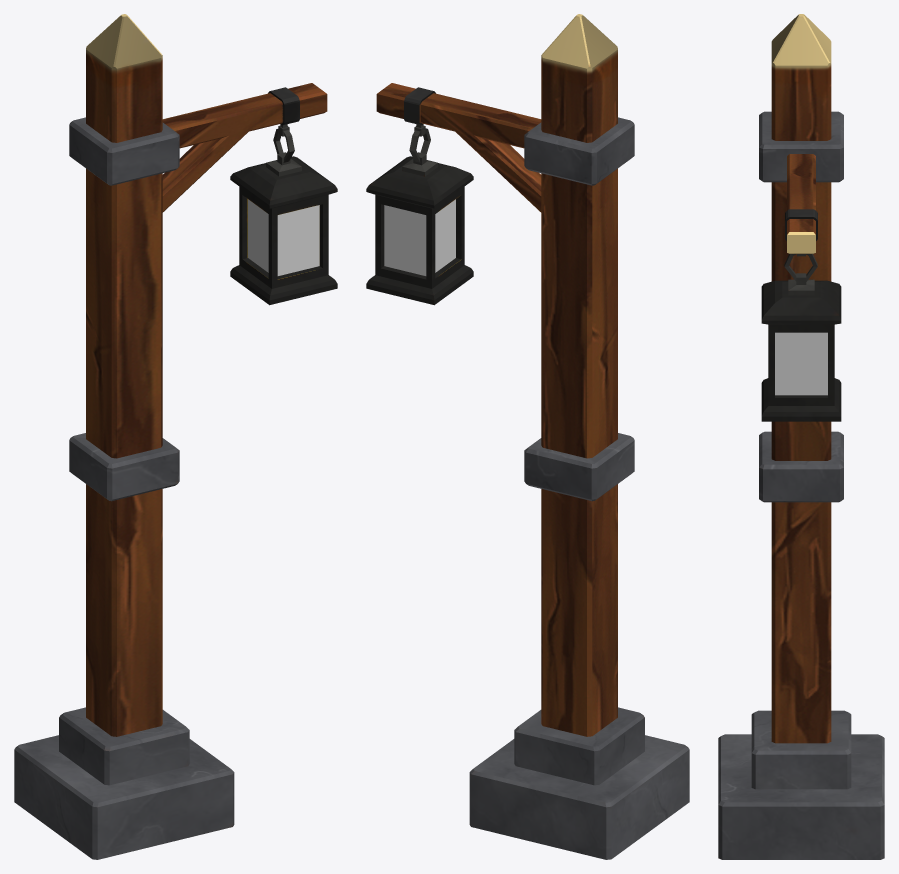
The model's file is Latern_01.fbx.
The picture shows the model from 3 angles, left to right: view 1: azimuth 30°, elevation 25°; view 2: azimuth 150°, elevation 25°; view 3: azimuth 270°, elevation 25°; orthographic projection.
Visible parts, largest first — view 1: Cube; view 2: Cube; view 3: Cube.
Boxes of the visible parts, x1,y1,x2,y2 form: Cube: [14, 14, 337, 859]; Cube: [366, 14, 689, 859]; Cube: [718, 14, 884, 859].
Size of the model in its own units: 150 by 430 by 80.
